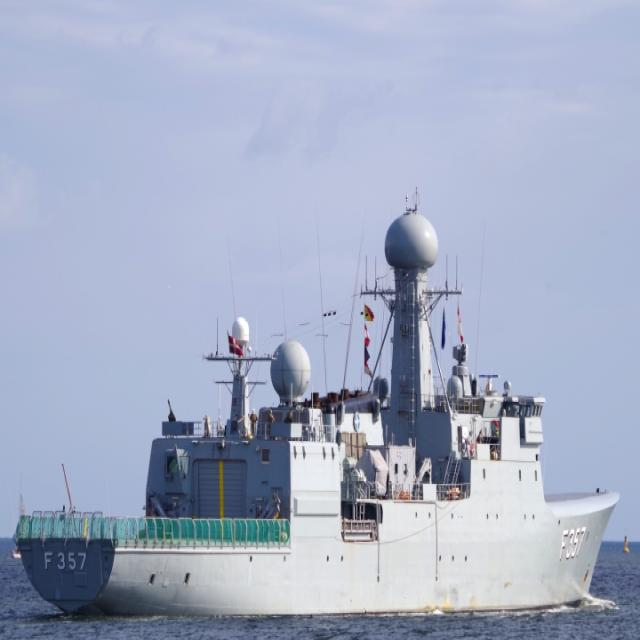Fragata: (19, 176, 625, 628)
